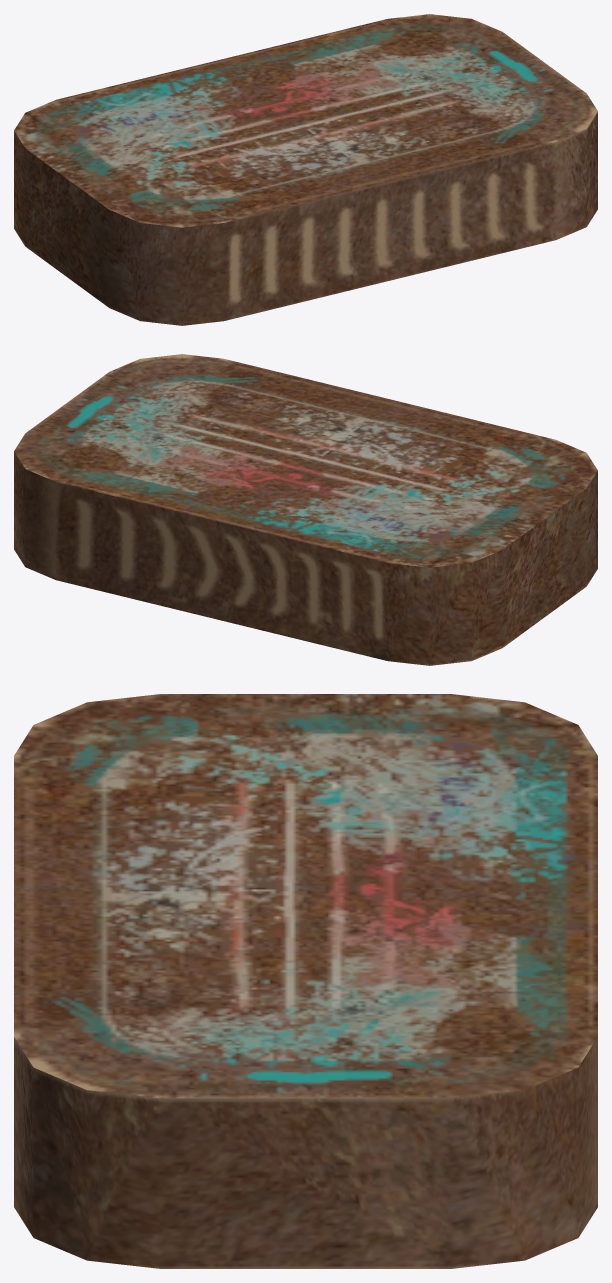
File: SM_TrashCan_05_D.fbx
The picture shows the model from 3 angles, top to bottom: view 1: azimuth 30°, elevation 25°; view 2: azimuth 150°, elevation 25°; view 3: azimuth 270°, elevation 25°; orthographic projection. The views are drawn at different scales.
Visible parts, largest first — view 1: SM_TrashCan_05_D; view 2: SM_TrashCan_05_D; view 3: SM_TrashCan_05_D.
Boxes of the visible parts, box(x1,y1,x2,y2) form: SM_TrashCan_05_D: box(14, 14, 597, 325); SM_TrashCan_05_D: box(14, 354, 597, 665); SM_TrashCan_05_D: box(14, 694, 597, 1268).
Bounding box in the file's own units: 18.02 × 11 × 3.54.
Materials: 1 (1 with a texture image).
